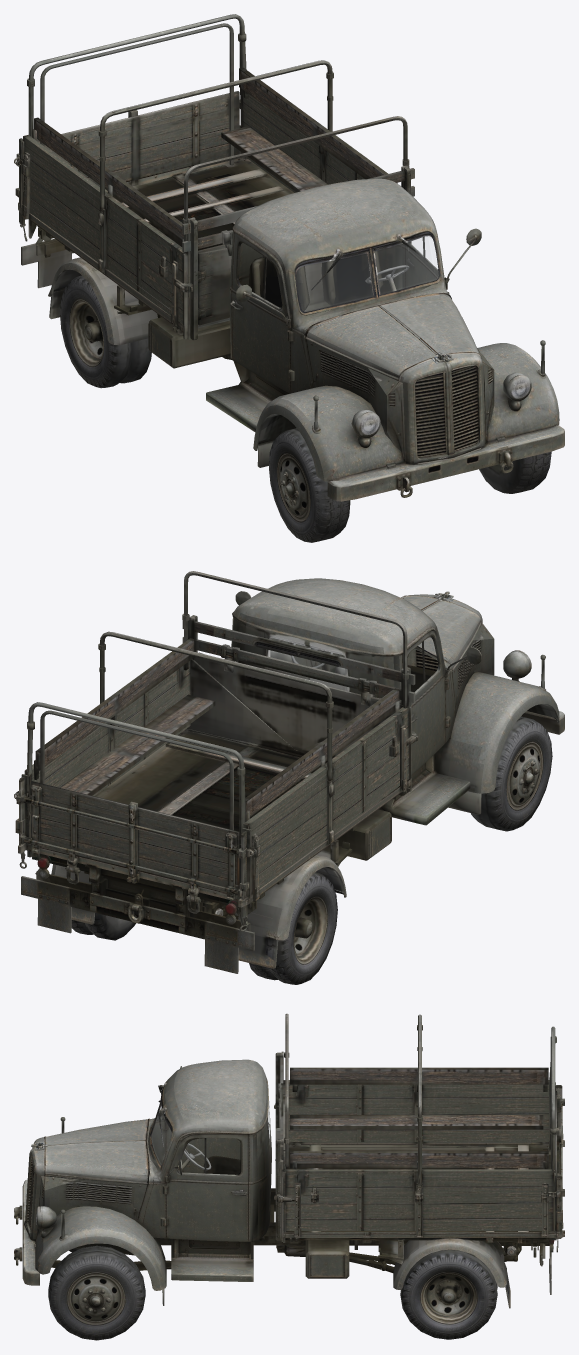
The model's file is german_transport.fbx.
3 renders of one model, top to bottom at view 1: azimuth 30°, elevation 25°; view 2: azimuth 150°, elevation 25°; view 3: azimuth 270°, elevation 25°, orthographic. The views are drawn at different scales.
Visible parts, largest first — view 1: Geom3D.190, Geom3D.335, Geom3D.216, Geom3D.349, Geom3D.196, Geom3D.271, Geom3D.189, Geom3D.373, Geom3D.360, Geom3D.275, Geom3D.199, Geom3D.304 (+19 smaller); view 2: Geom3D.190, Geom3D.271, Geom3D.335, Geom3D.349, Geom3D.234, Geom3D.196, Geom3D.373, Geom3D.341, Geom3D.360, Geom3D.270, Geom3D.304, Geom3D.346 (+19 smaller); view 3: Geom3D.190, Geom3D.341, Geom3D.335, Geom3D.371, Geom3D.358, Geom3D.199, Geom3D.271, Geom3D.339, Geom3D.345, Geom3D.347, Geom3D.276, Geom3D.223 (+18 smaller).
Boxes of the visible parts, box(x1,y1,x2,y2) form: Geom3D.190: box(21, 158, 494, 444); Geom3D.335: box(23, 135, 185, 324); Geom3D.216: box(387, 352, 493, 464); Geom3D.349: box(37, 91, 239, 186); Geom3D.196: box(253, 385, 405, 481); Geom3D.271: box(20, 153, 411, 339); Geom3D.189: box(297, 236, 438, 311); Geom3D.373: box(269, 428, 350, 542); Geom3D.360: box(60, 275, 131, 388); Geom3D.275: box(327, 425, 564, 501); Geom3D.199: box(477, 343, 559, 444); Geom3D.304: box(24, 234, 545, 497); Geom3D.190: box(39, 578, 494, 907); Geom3D.271: box(25, 656, 411, 904); Geom3D.335: box(243, 707, 409, 887); Geom3D.349: box(30, 781, 239, 895); Geom3D.234: box(21, 665, 435, 973); Geom3D.196: box(411, 671, 559, 793); Geom3D.373: box(471, 716, 552, 831); Geom3D.341: box(24, 660, 190, 837); Geom3D.360: box(269, 872, 337, 984); Geom3D.270: box(27, 832, 352, 940); Geom3D.304: box(19, 650, 545, 931); Geom3D.346: box(61, 694, 215, 795); Geom3D.190: box(37, 1051, 548, 1259); Geom3D.341: box(285, 1169, 554, 1230); Geom3D.335: box(288, 1080, 549, 1141); Geom3D.371: box(48, 1245, 145, 1340); Geom3D.358: box(400, 1249, 497, 1339); Geom3D.199: box(35, 1206, 166, 1290); Geom3D.271: box(283, 1080, 556, 1242); Geom3D.339: box(290, 1067, 548, 1084); Geom3D.345: box(290, 1151, 548, 1168); Geom3D.347: box(290, 1115, 543, 1129); Geom3D.276: box(171, 1239, 253, 1281); Geom3D.223: box(393, 1238, 506, 1289).
Size of the model in its own units: 43.02 by 48.39 by 99.95.
137 materials, 136 textured.
